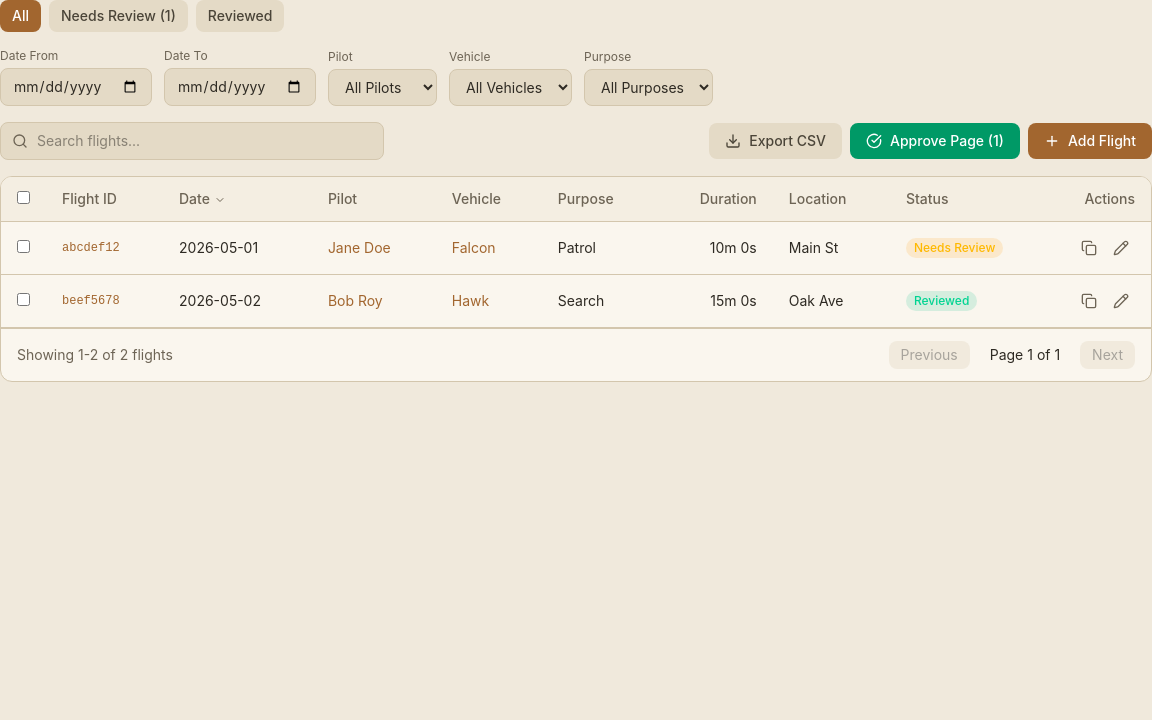
Test case: FlightsPage › bulk purpose: nothing is sent when the confirmation is cancelled
Click the checkbox named "Select all flights on this page" at (24, 198), box [17,191,30,204]
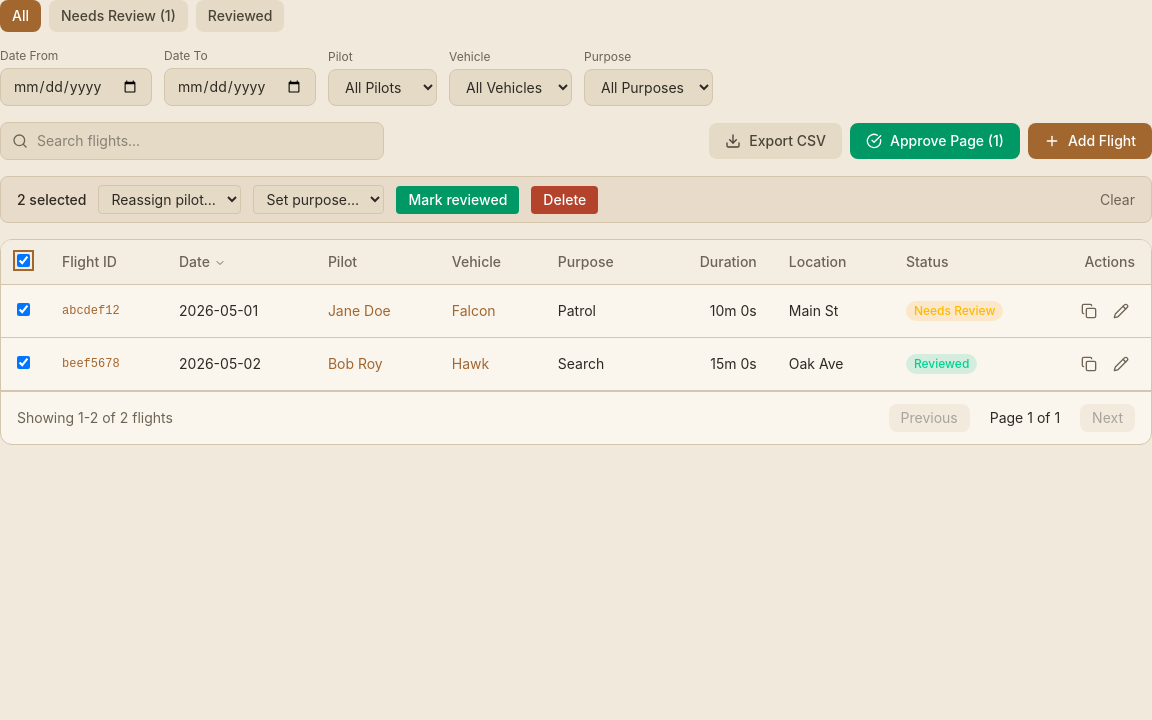
expect the text "2 selected" is shown: met, box [17,190,86,210]
Select "Search" in the dropdown named "Set purpose for selected flights" at (319, 200), box [254,185,384,214]
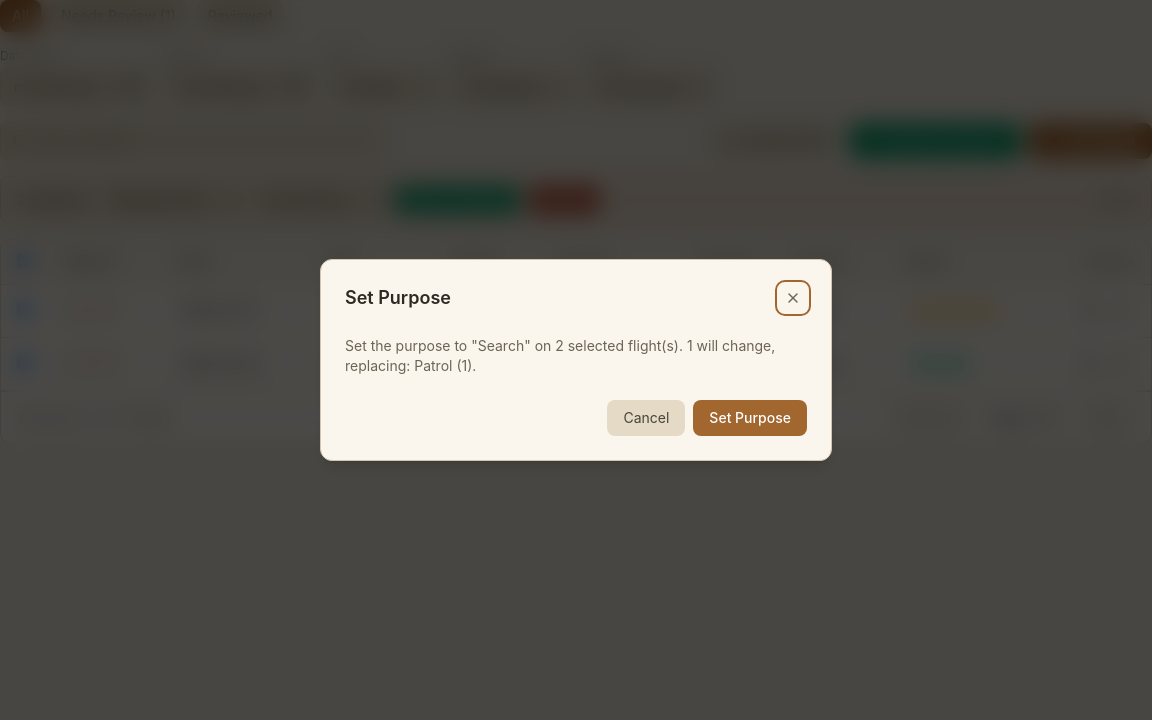
expect the text "Set the purpose to \"Search\"" is shown: met, box [345,337,775,374]
Click the button "Cancel" at (646, 418), box [607,400,685,436]
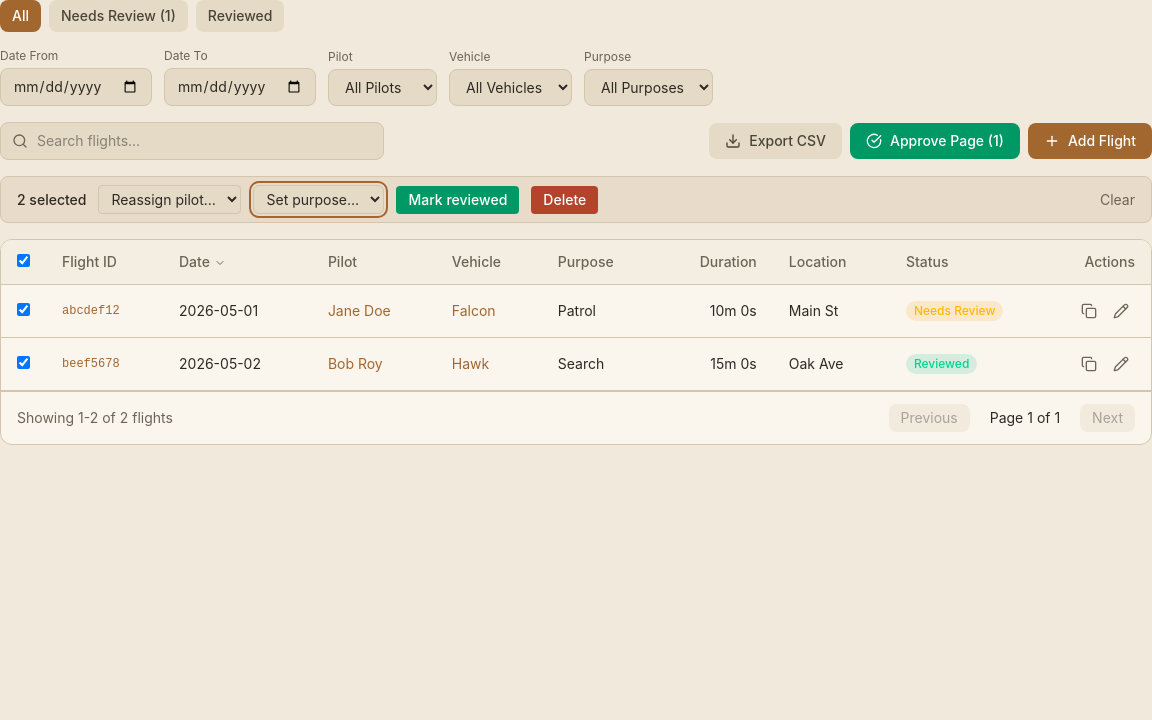
expect the text "Set the purpose to" is gone: met
